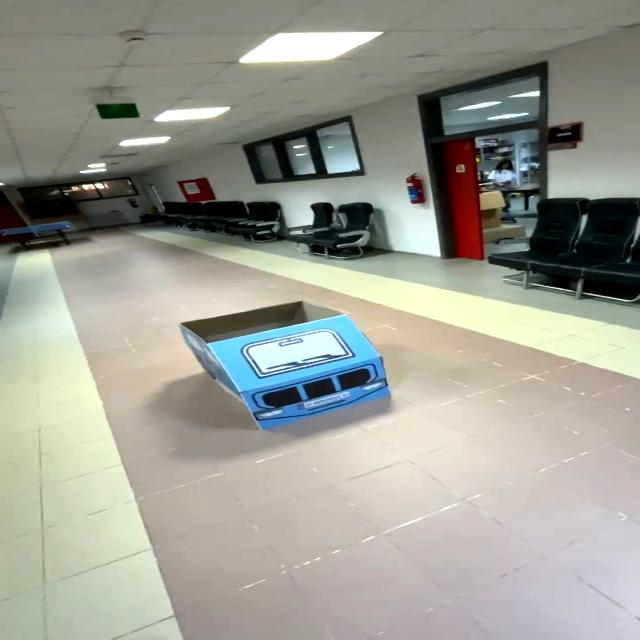blue_car: (160, 284, 421, 450)
